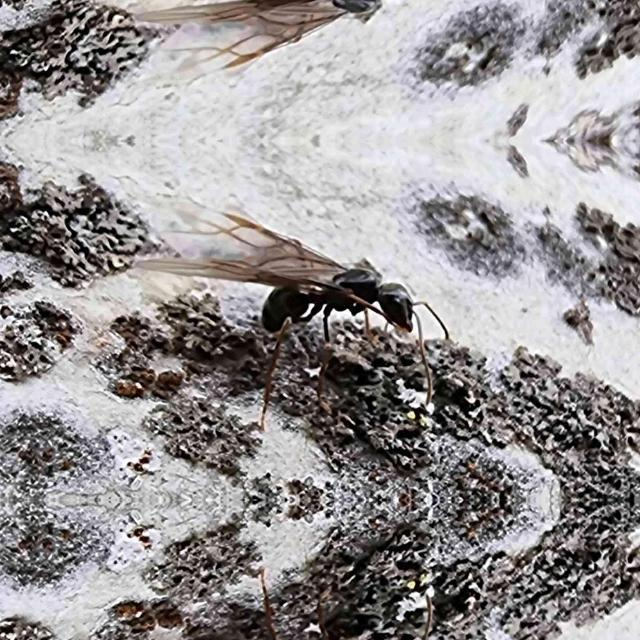Lasius: (220, 234, 438, 362), (218, 0, 438, 46)
